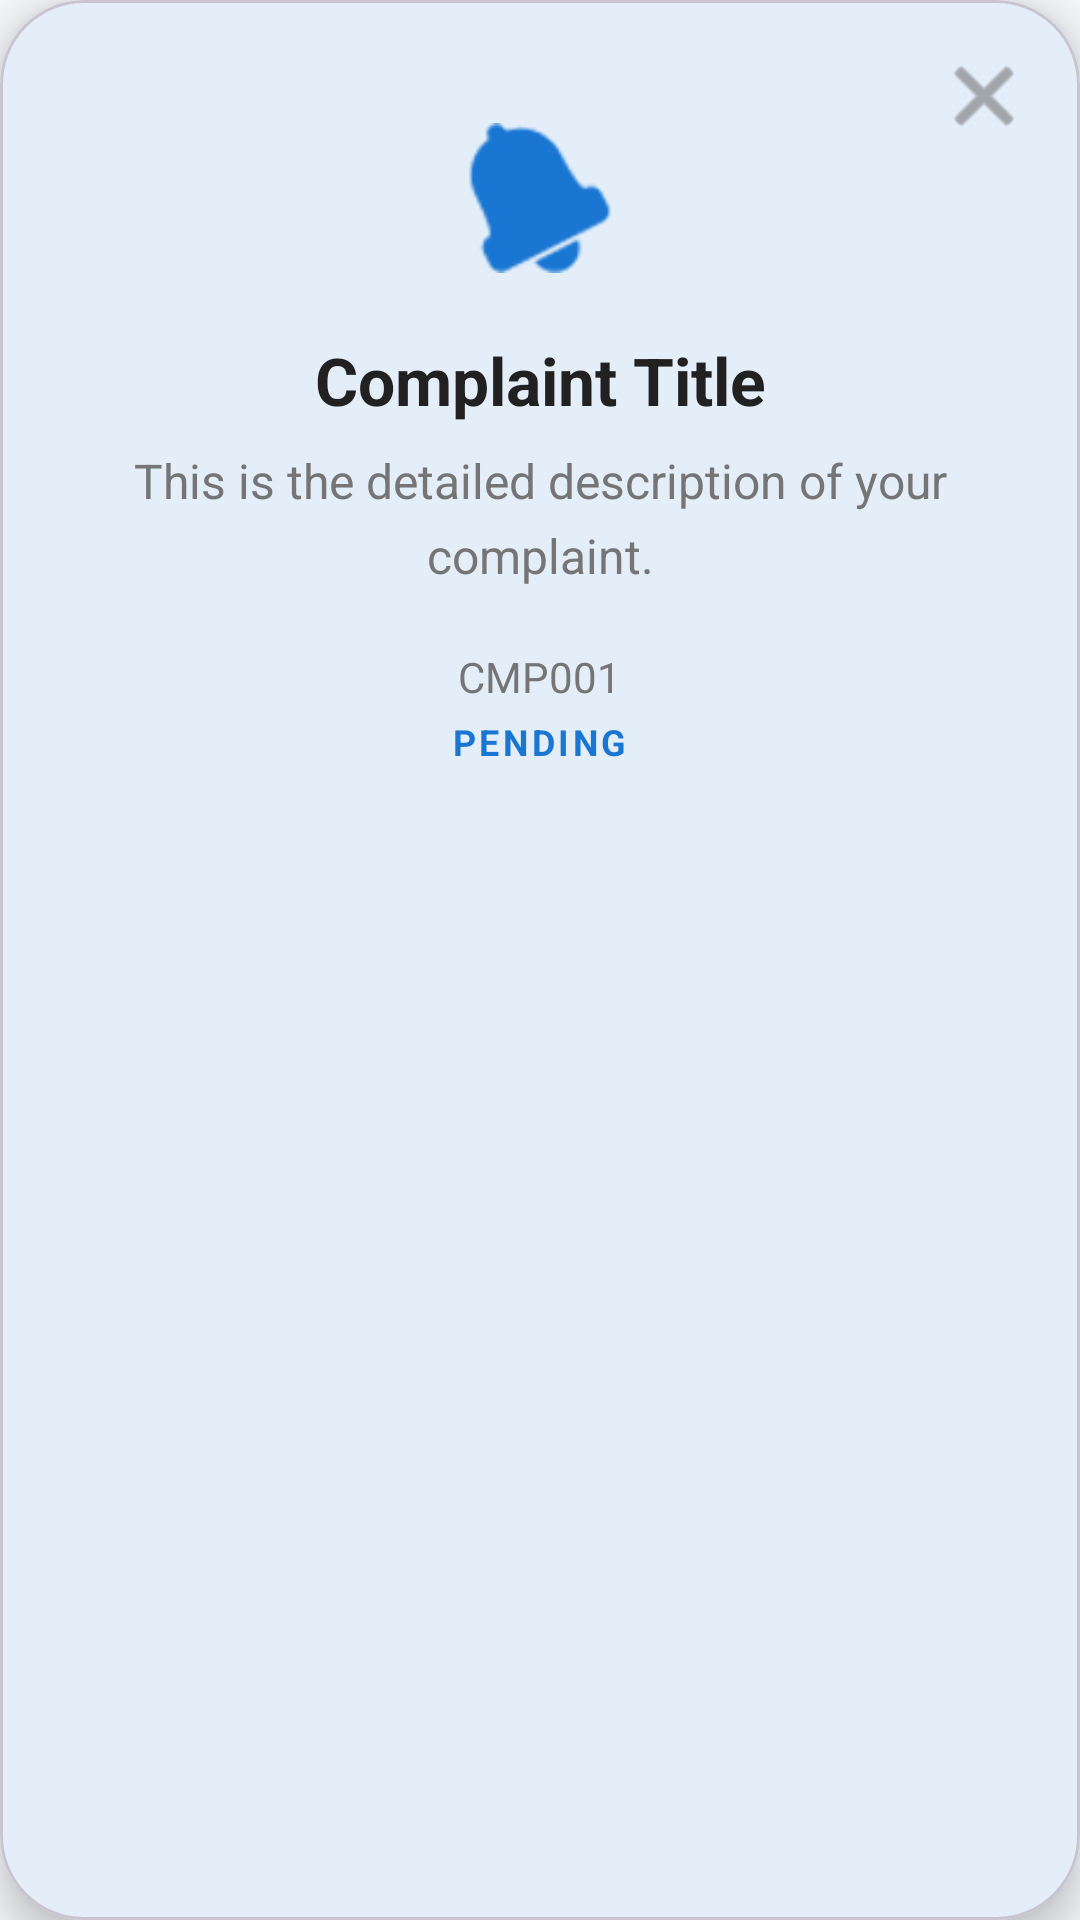

Named icons in this screenshot (1080*1920) and their bounding boxes, bbox(x1, y1, x2, y2):
Close: bbox(954, 66, 1014, 126)
popup reminder: bbox(469, 123, 611, 273)
